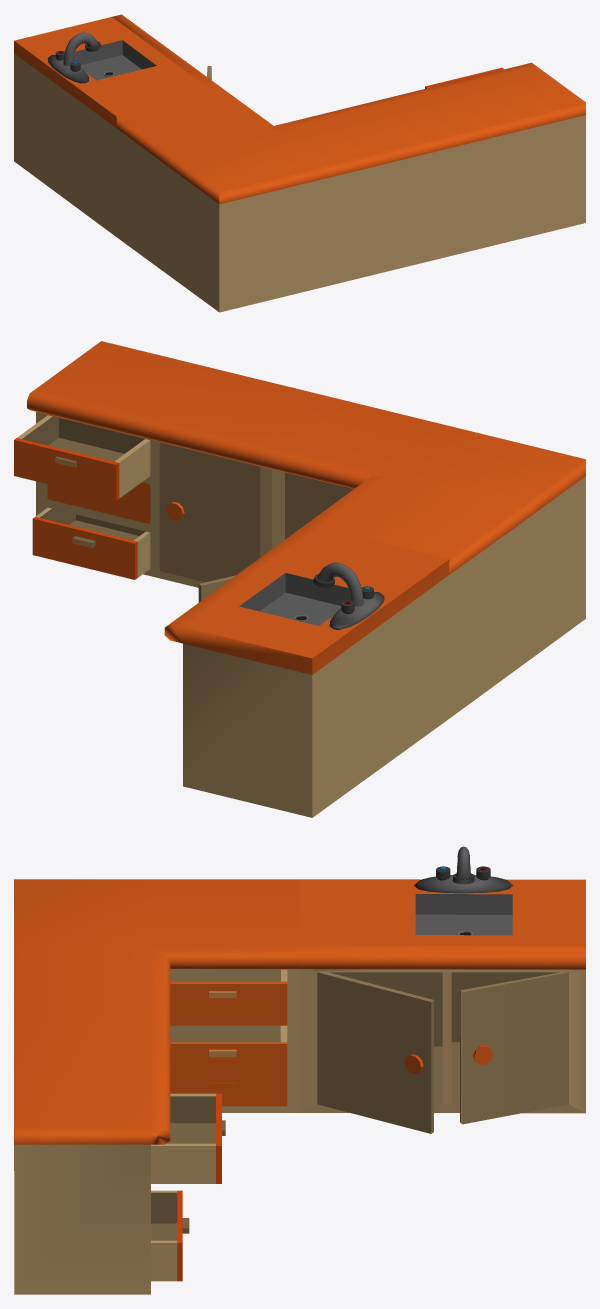
Rendered from Bench2.fbx.
3 views of the same model, one above another, from view 1: azimuth 30°, elevation 25°; view 2: azimuth 150°, elevation 25°; view 3: azimuth 270°, elevation 25° (orthographic). The views are drawn at different scales.
Parts seen in each view (by area): view 1: pCylinder4; view 2: pCylinder4; view 3: pCylinder4.
Boxes of the visible parts, x1,y1,x2,y2 form: pCylinder4: [14, 14, 585, 312]; pCylinder4: [14, 341, 585, 817]; pCylinder4: [14, 846, 585, 1294].
Size of the model in its own units: 4264 by 1719 by 4155.
